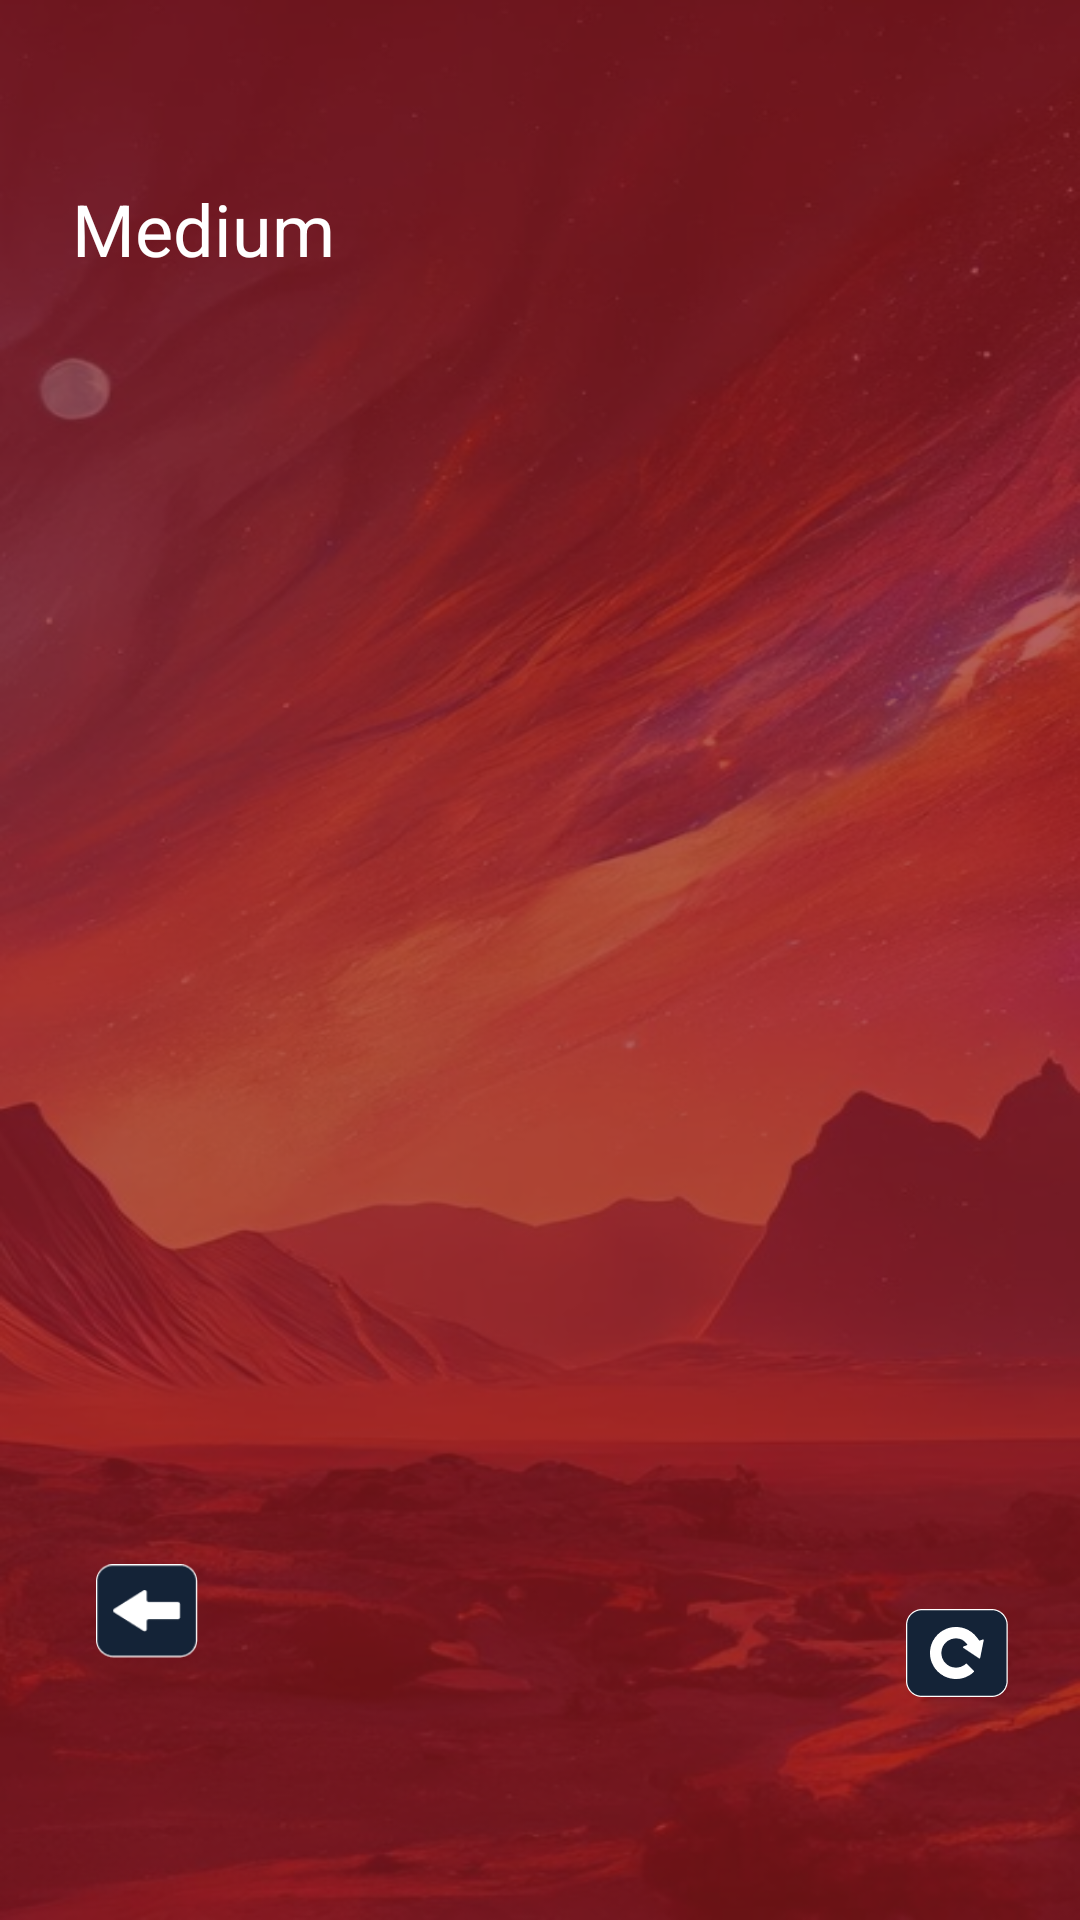

Where to tap for icons on this 1080*1920 app screen, as (x,y):
bback: (147,1608)
rrestart: (957,1668)
